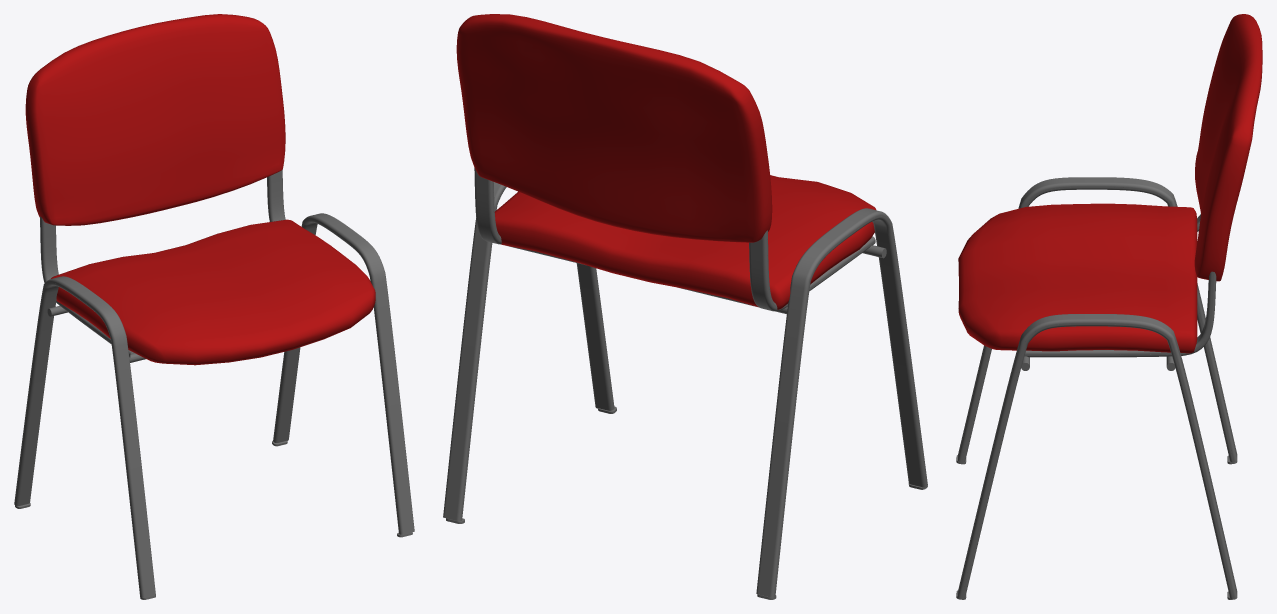
File: chair.fbx
3 renders of one model, left to right at view 1: azimuth 30°, elevation 25°; view 2: azimuth 150°, elevation 25°; view 3: azimuth 270°, elevation 25°, orthographic. The views are drawn at different scales.
Parts seen in each view (by area): view 1: ChamferBox19, ChamferBox18, Loft18, Loft15, Loft19, Loft01; view 2: ChamferBox19, ChamferBox18, Loft18, Loft15, Loft19, Loft01; view 3: ChamferBox18, ChamferBox19, Loft15, Loft18, Loft01.
Boxes of the visible parts, x1,y1,x2,y2 form: ChamferBox19: (25, 14, 285, 225); ChamferBox18: (51, 219, 375, 365); Loft18: (14, 276, 155, 597); Loft15: (273, 213, 414, 534); Loft19: (40, 216, 141, 358); Loft01: (267, 170, 285, 221); ChamferBox19: (456, 14, 772, 242); ChamferBox18: (494, 175, 876, 309); Loft18: (756, 208, 927, 597); Loft15: (443, 182, 614, 520); Loft19: (749, 230, 875, 311); Loft01: (474, 167, 501, 244); ChamferBox18: (958, 203, 1197, 353); ChamferBox19: (1194, 14, 1262, 281); Loft15: (957, 314, 1237, 599); Loft18: (958, 177, 1237, 462); Loft01: (1024, 271, 1216, 357).
Bounding box in the file's own units: 497 × 763 × 446.
